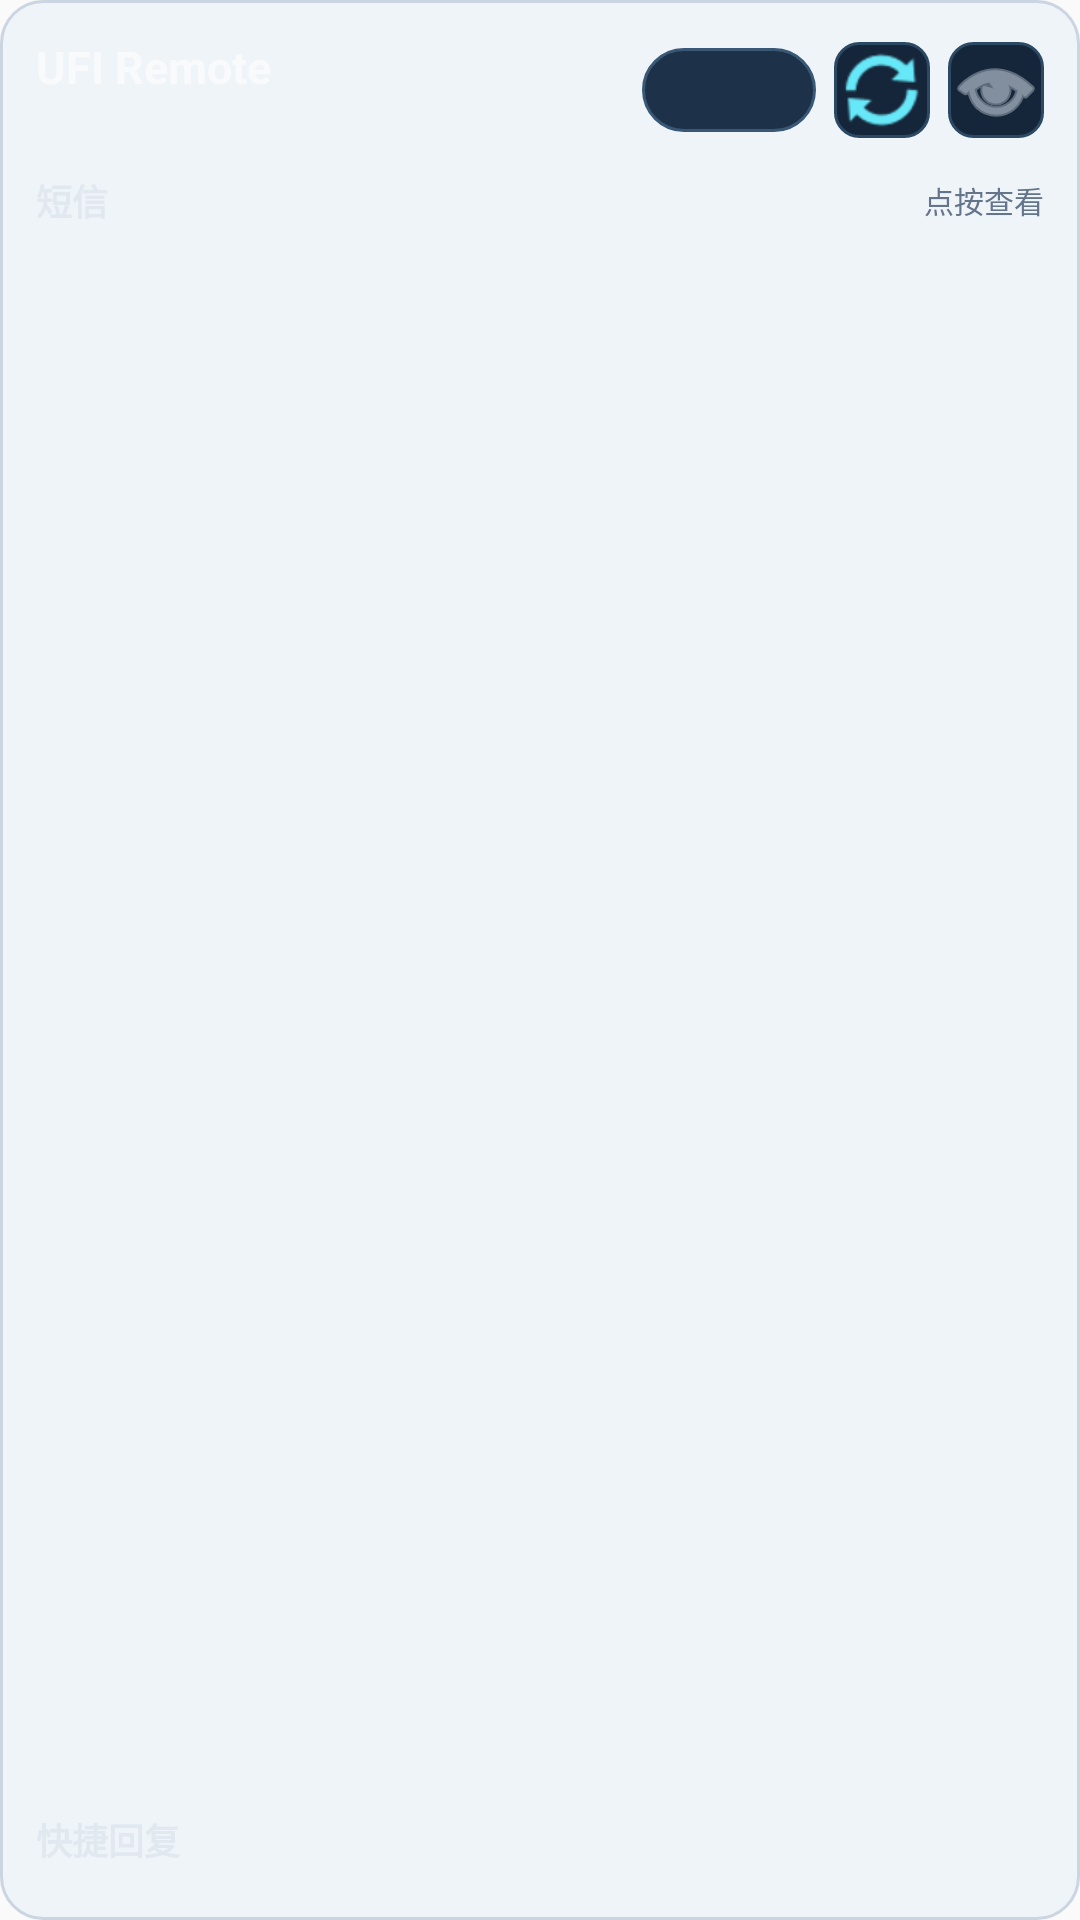

Locate icon controls on the screen. Image size 1080w x 1920h, boxes as (x1, y1, x2, y2).
刷新: (834, 42, 930, 138)
